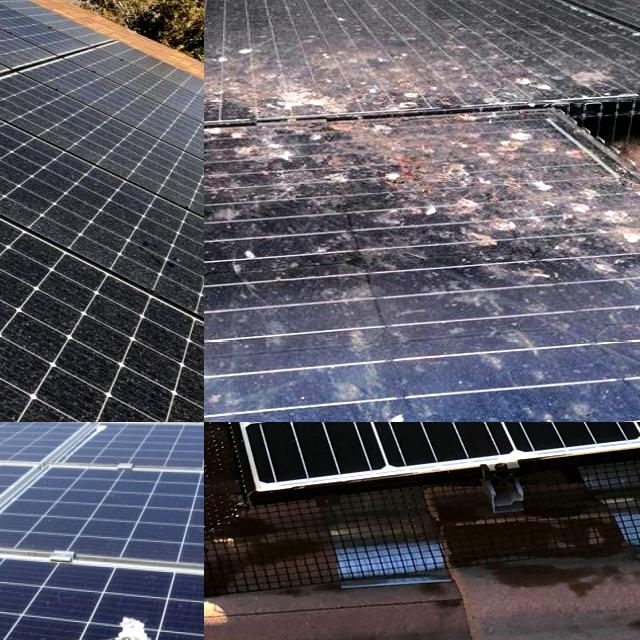bird: (277, 22, 488, 112), (476, 155, 640, 259), (298, 112, 418, 228), (503, 27, 640, 111), (204, 234, 337, 317), (204, 65, 262, 193), (17, 587, 156, 640), (204, 183, 239, 296), (358, 394, 436, 422)
crack: (204, 422, 640, 640)
dust: (0, 153, 92, 277), (0, 185, 70, 325), (0, 309, 73, 422), (148, 166, 204, 312), (0, 33, 87, 125), (0, 0, 57, 85)
